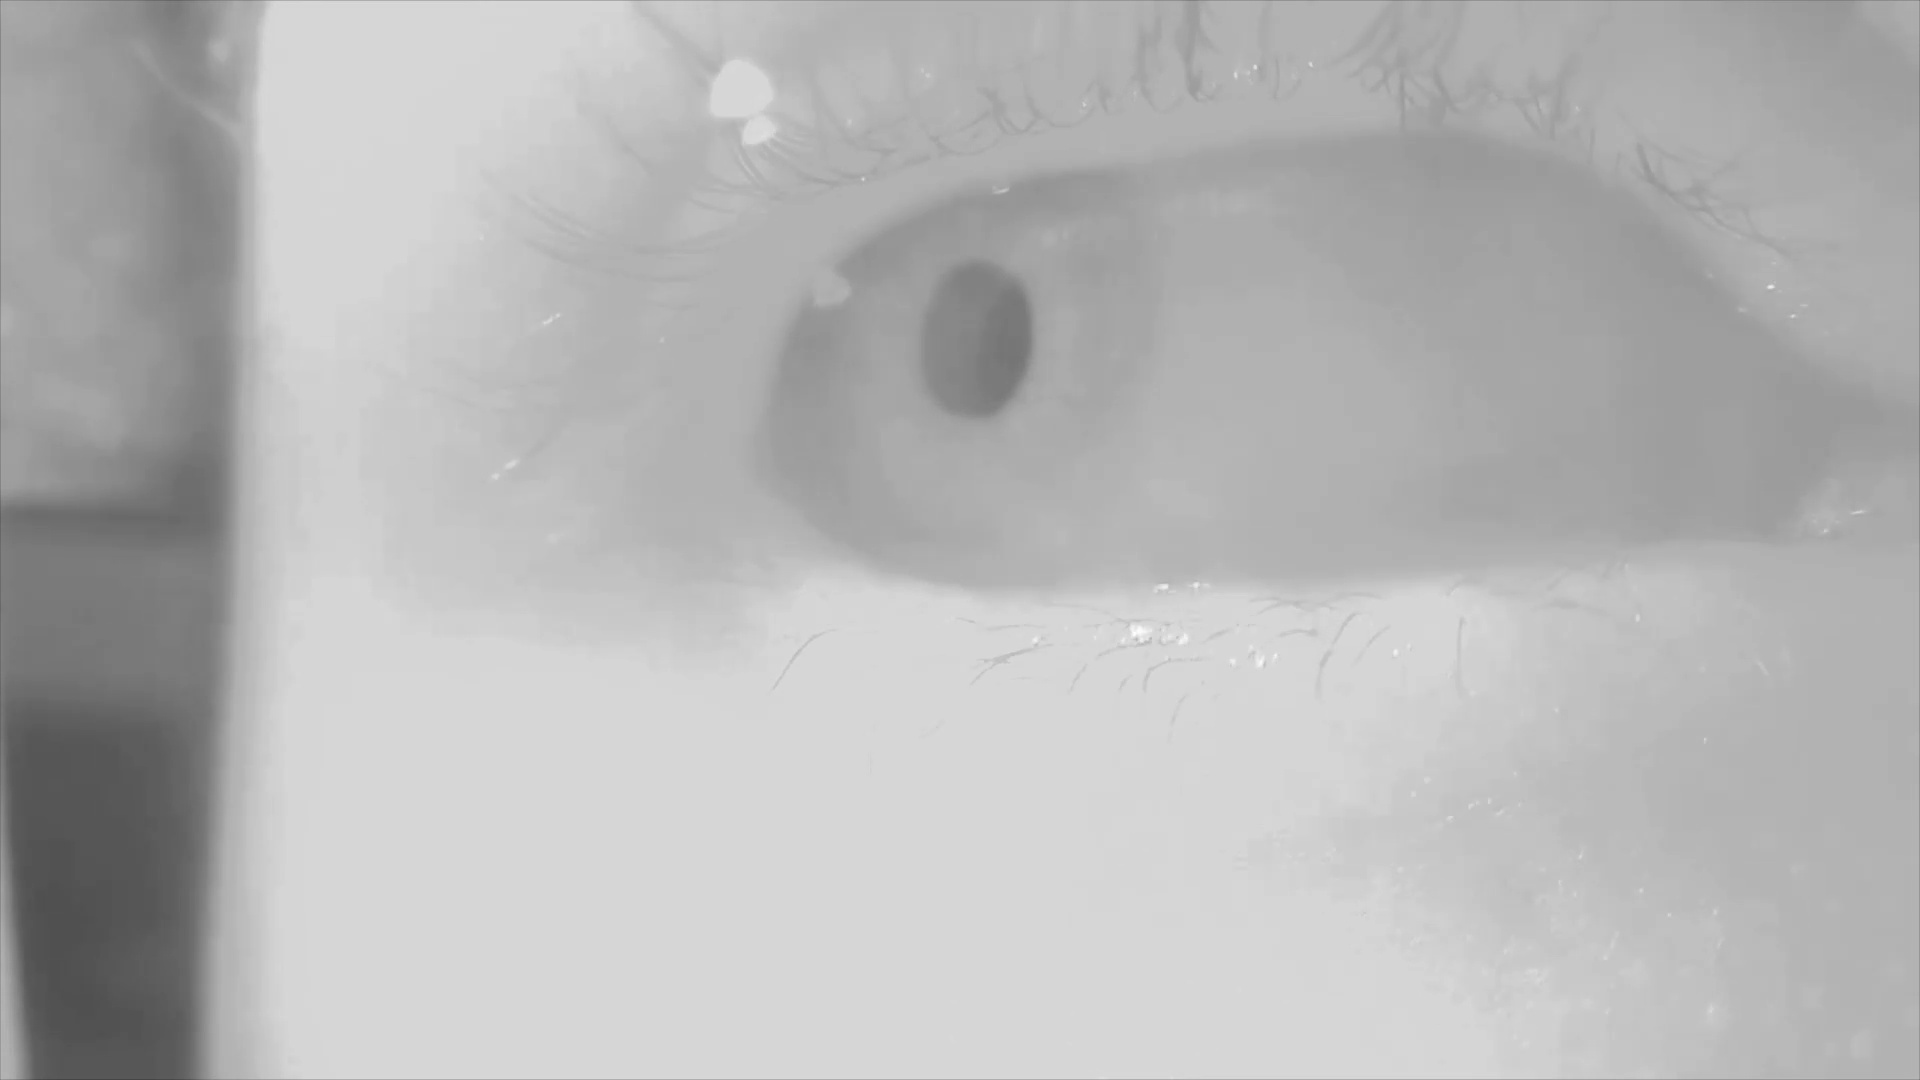pupil: (917, 264, 1039, 421)
